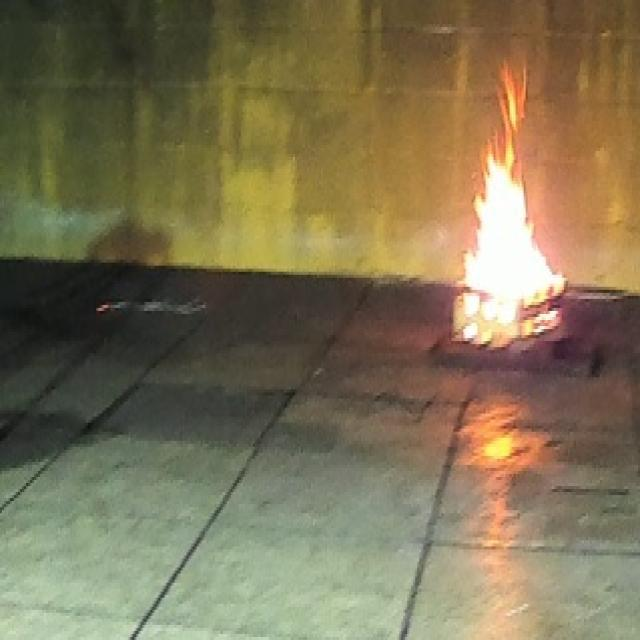Fire: (454, 58, 566, 348)
